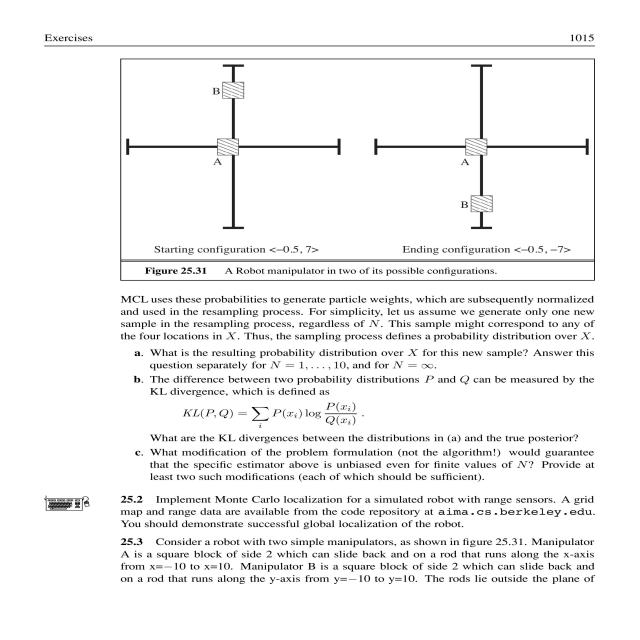diagram: (101, 50, 640, 280)
